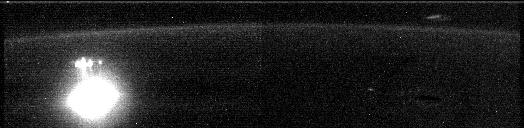positive: (70, 52, 103, 79)
